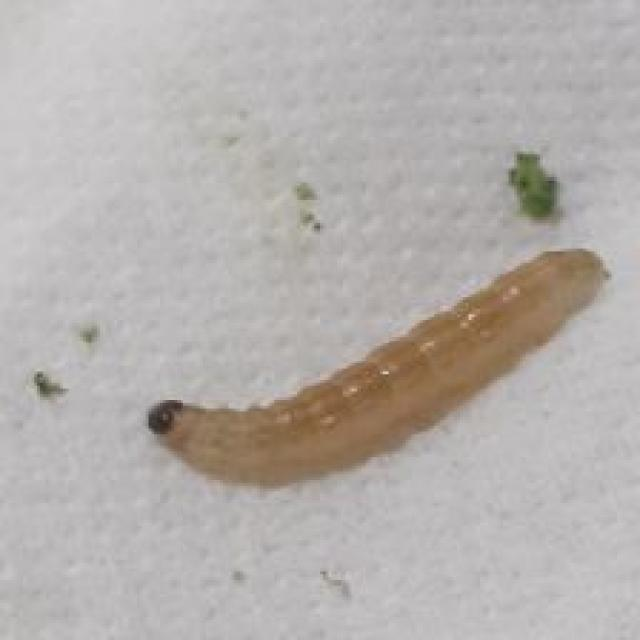white mucus: (99, 194, 635, 508)
